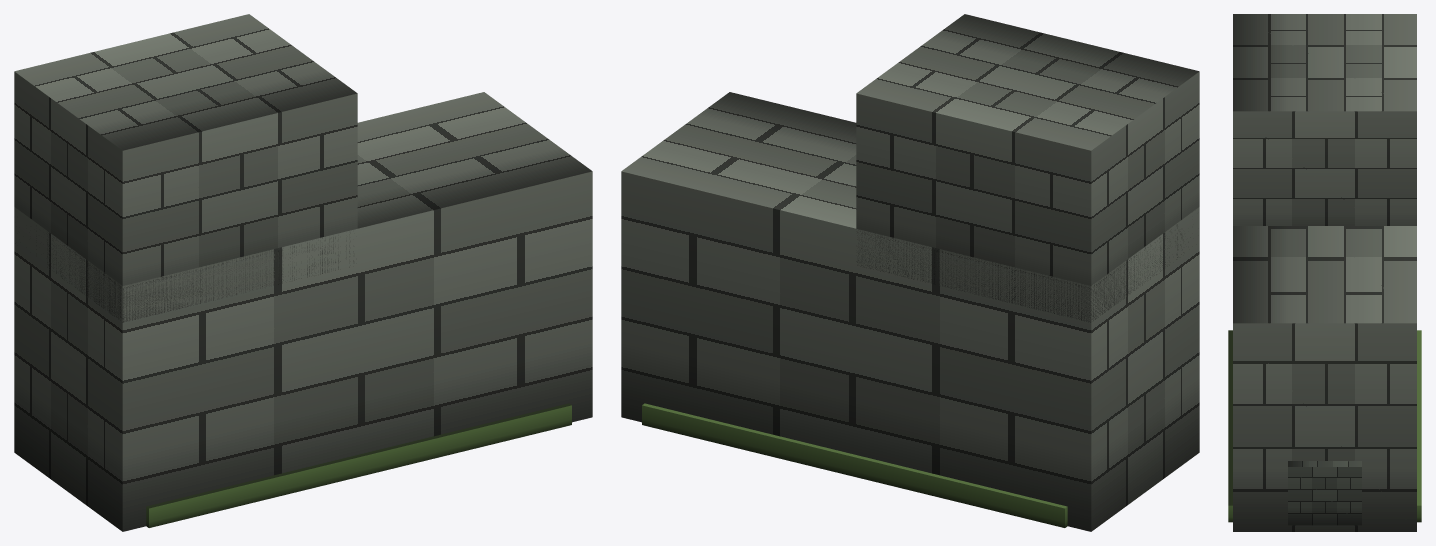
The model's file is wall_ruined.glb.
3 views of the same model, side by side, from view 1: azimuth 30°, elevation 25°; view 2: azimuth 150°, elevation 25°; view 3: azimuth 270°, elevation 25° (orthographic). The views are drawn at different scales.
Visible parts, largest first — view 1: wall_ruined; view 2: wall_ruined; view 3: wall_ruined.
Boxes of the visible parts, <box> form: wall_ruined: <box>14,14,592,531</box>; wall_ruined: <box>621,14,1199,531</box>; wall_ruined: <box>1228,14,1421,531</box>.
Size of the model in its own units: 1.03 by 0.775 by 0.42.
Materials: 1 (1 with a texture image).
